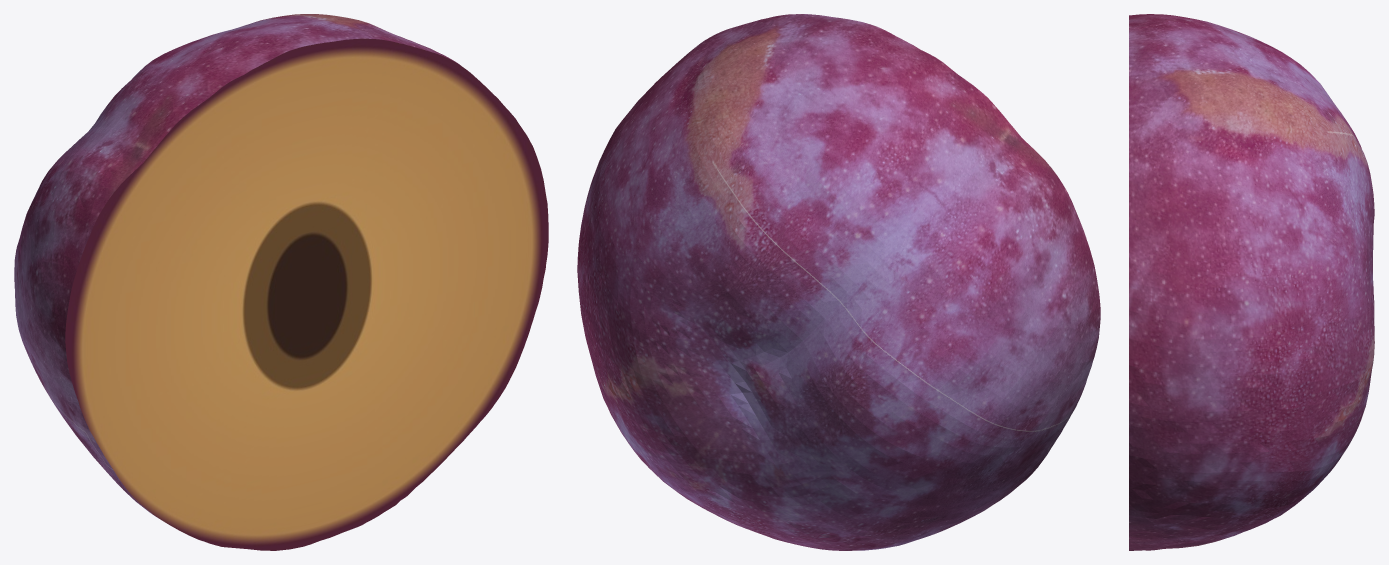
Rendered from plum_left.obj.
The picture shows the model from 3 angles, left to right: view 1: azimuth 30°, elevation 25°; view 2: azimuth 150°, elevation 25°; view 3: azimuth 270°, elevation 25°; orthographic projection. The views are drawn at different scales.
Parts seen in each view (by area): view 1: fruit_half; view 2: fruit_half; view 3: fruit_half.
Part boxes in pixels (x1,y1,x2,y2): fruit_half: (14, 14, 548, 550); fruit_half: (577, 14, 1100, 550); fruit_half: (1129, 14, 1374, 550).
Size of the model in its own units: 0.0517 by 0.051 by 0.0231.
